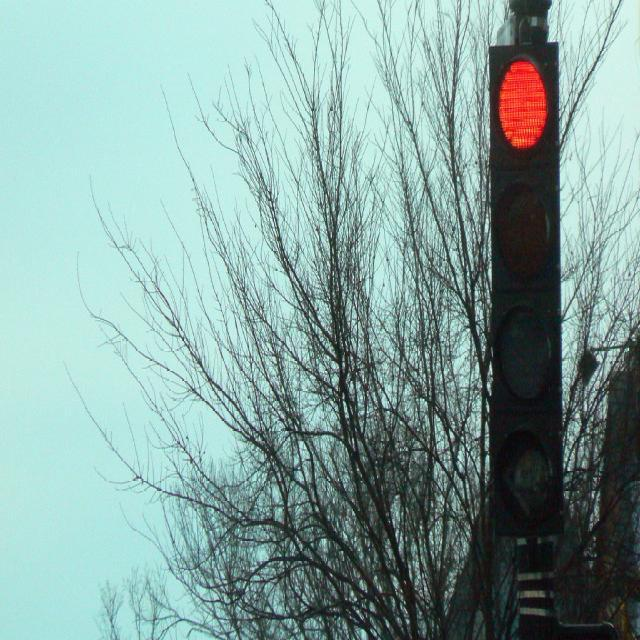traffic light: (484, 41, 568, 542)
